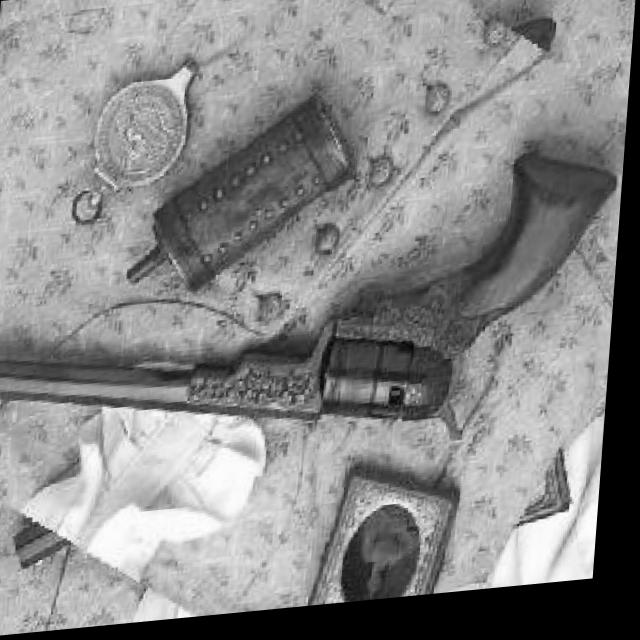handgun: (0, 156, 622, 490)
